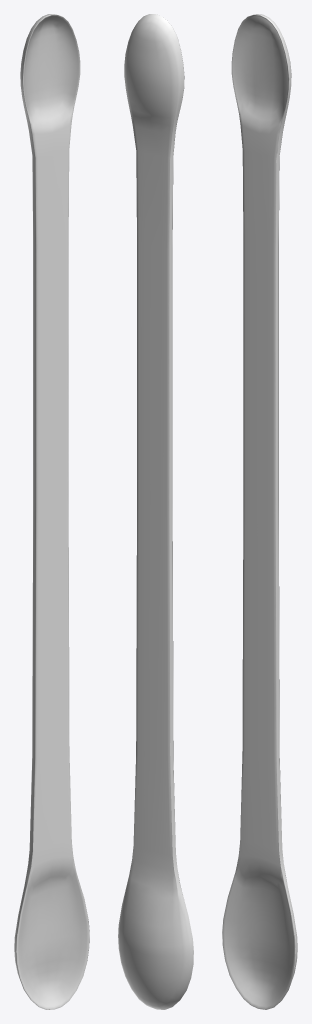
The model's file is Spatula_Dble_Spoon_S1.fbx.
3 views of the same model, side by side, from view 1: azimuth 30°, elevation 25°; view 2: azimuth 150°, elevation 25°; view 3: azimuth 330°, elevation 25° (orthographic).
Parts seen in each view (by area): view 1: Spatula_Dble_Spoon_LOD0; view 2: Spatula_Dble_Spoon_LOD0; view 3: Spatula_Dble_Spoon_LOD0.
Part boxes in pixels (bbox=[...]): Spatula_Dble_Spoon_LOD0: bbox=[14, 14, 89, 1009]; Spatula_Dble_Spoon_LOD0: bbox=[118, 14, 193, 1009]; Spatula_Dble_Spoon_LOD0: bbox=[222, 14, 297, 1009].
Size of what is drawn, in the model's own units: 1.7 by 21.79 by 0.4965.
